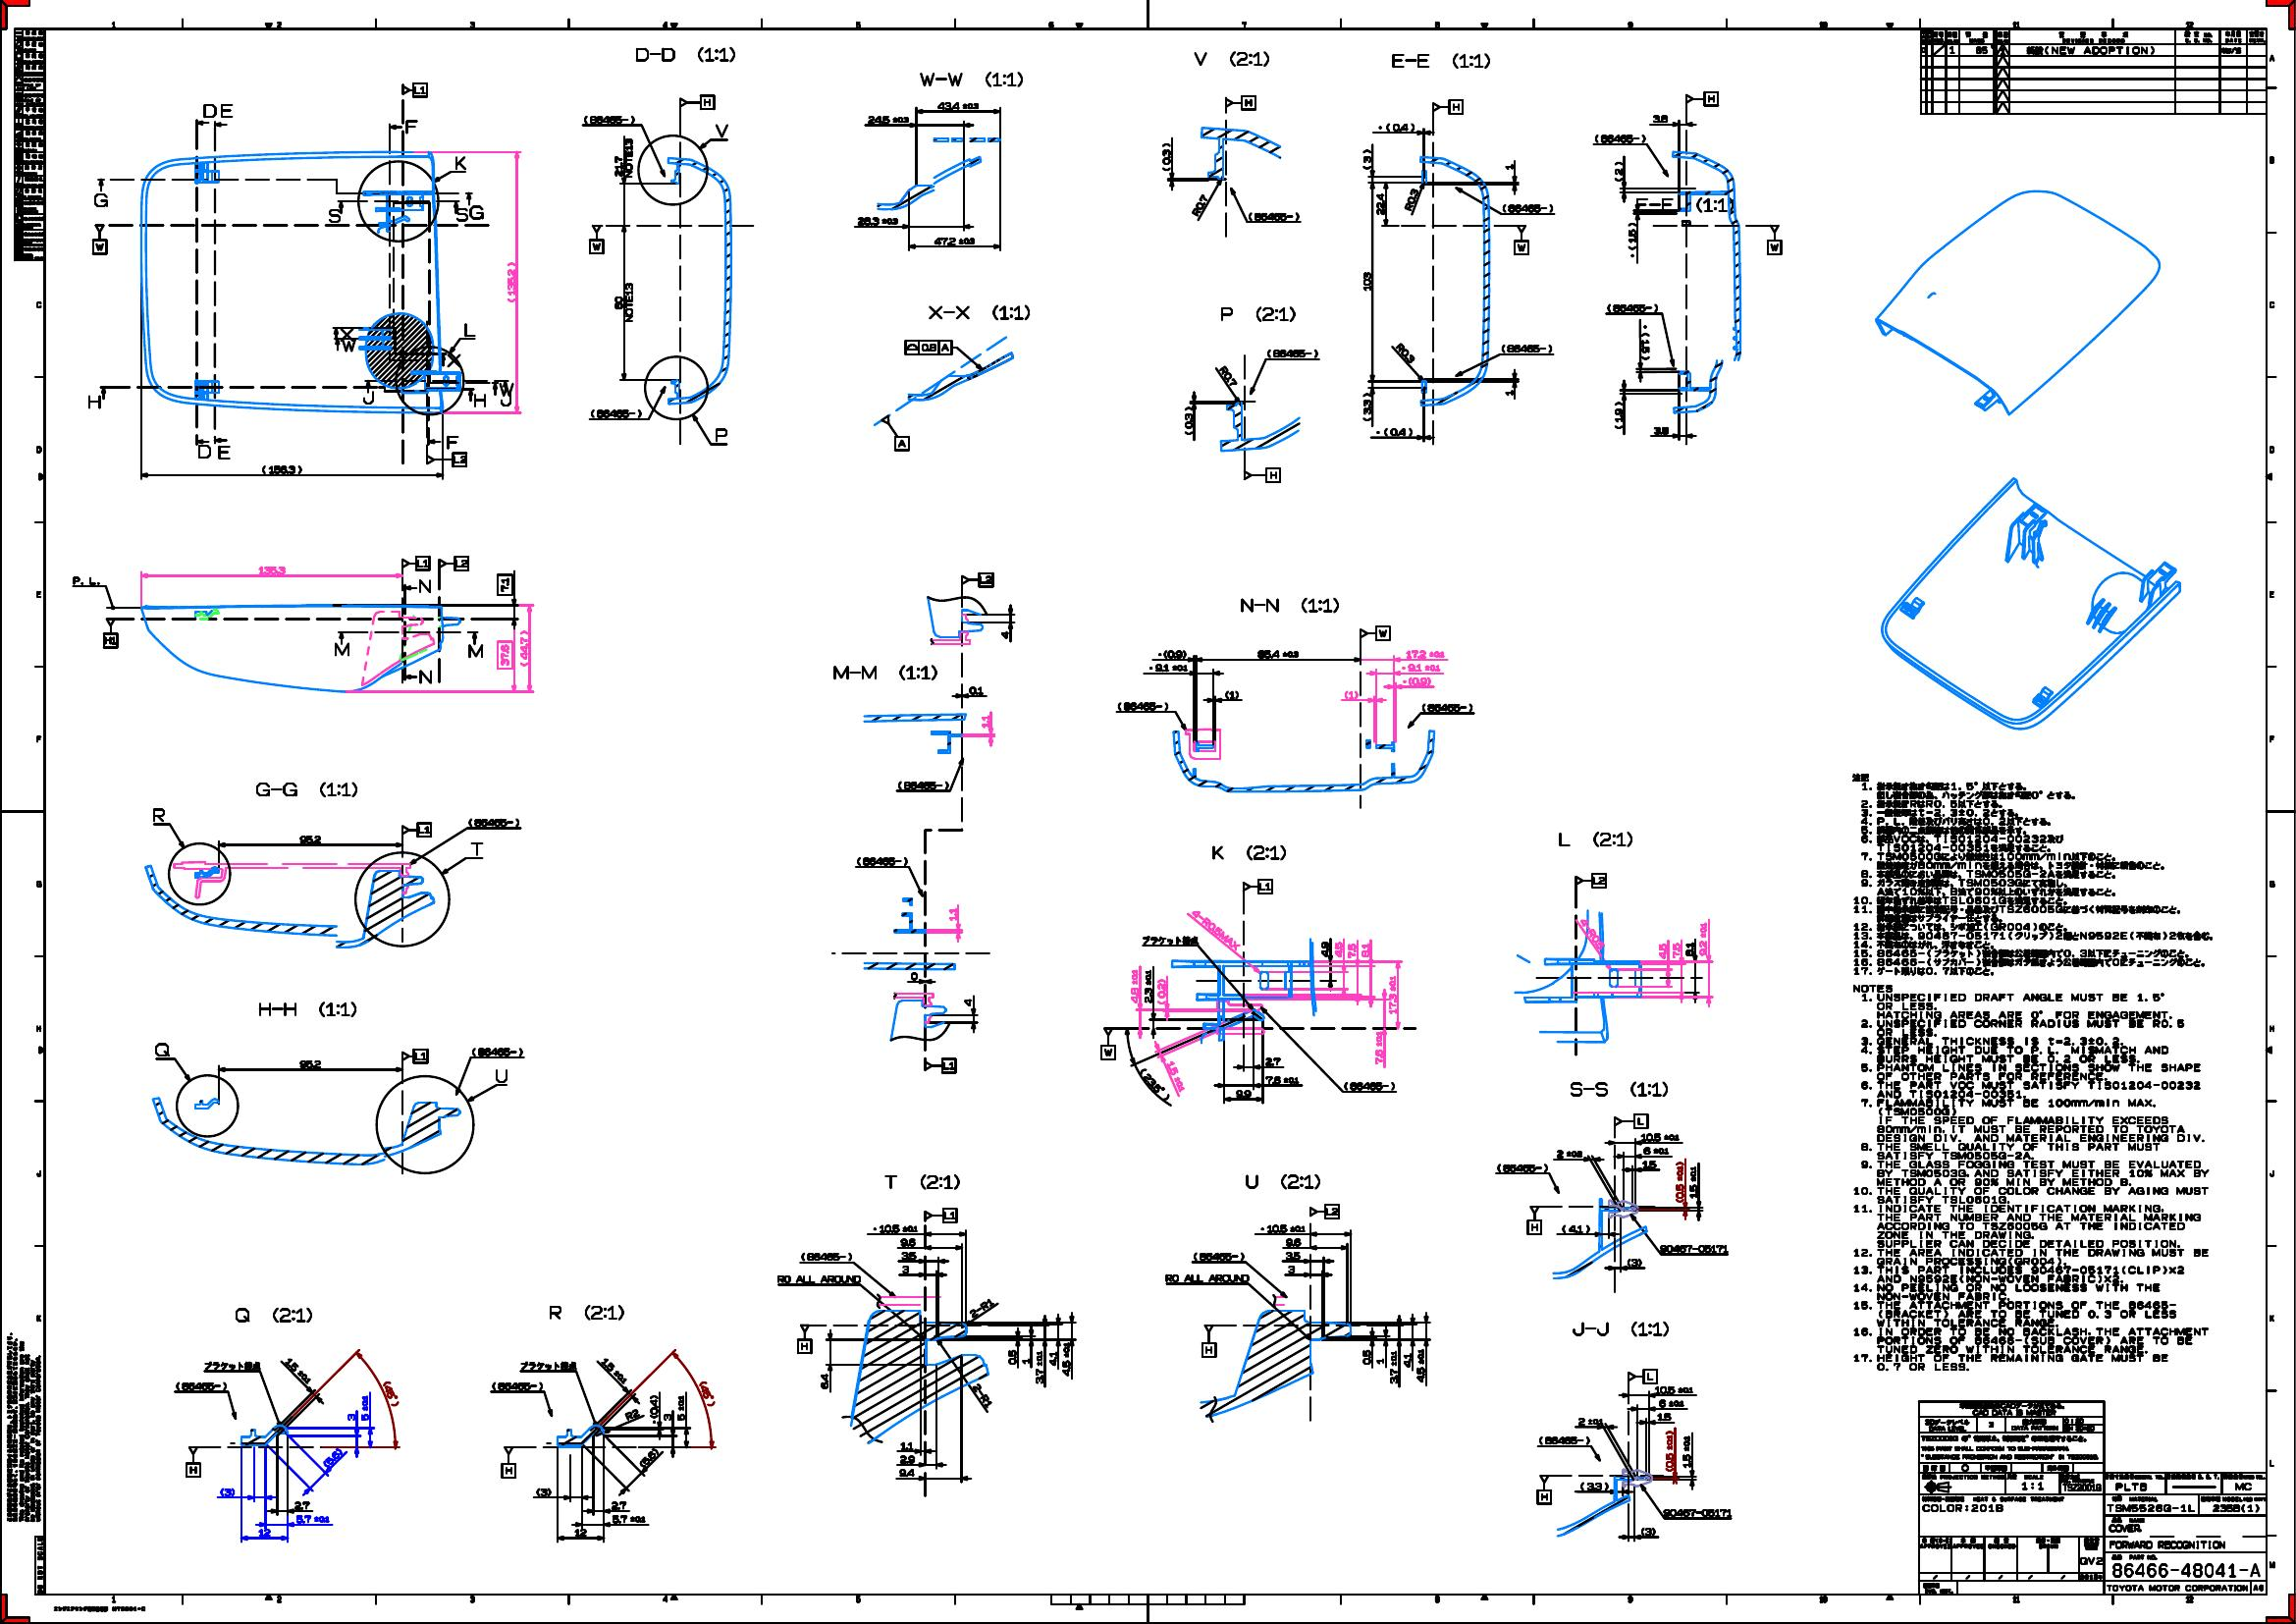anntotation_text: (1846, 765, 2213, 1380), (4, 1329, 42, 1524), (1570, 1316, 1669, 1338), (831, 663, 938, 682), (1238, 596, 1340, 615), (917, 70, 1022, 88), (253, 780, 358, 798), (926, 304, 1029, 322), (632, 46, 736, 63), (1390, 53, 1491, 70), (1569, 1081, 1669, 1098), (880, 1171, 963, 1192), (234, 1304, 313, 1325), (256, 1002, 358, 1018), (1635, 197, 1734, 213), (1242, 1172, 1321, 1192), (1191, 49, 1270, 69), (1219, 304, 1296, 323), (1210, 844, 1288, 861), (546, 1304, 624, 1322), (1556, 831, 1632, 847), (51, 1605, 146, 1615), (903, 339, 954, 355), (1593, 132, 1648, 144), (35, 1536, 46, 1596), (518, 1359, 578, 1369), (1662, 1508, 1732, 1517), (1658, 1244, 1727, 1253), (588, 406, 645, 417), (1182, 1274, 1249, 1283), (1606, 302, 1660, 313), (1342, 1079, 1397, 1090), (1116, 700, 1170, 710), (1265, 348, 1319, 359), (466, 816, 520, 826), (796, 1274, 861, 1283), (1497, 1162, 1549, 1172), (1193, 1250, 1245, 1260), (896, 779, 949, 789), (471, 1046, 523, 1056), (1421, 701, 1472, 712), (202, 1360, 262, 1369), (1140, 935, 1198, 944), (1500, 204, 1555, 213), (799, 1251, 854, 1260), (174, 1380, 228, 1388), (583, 114, 638, 123), (1500, 344, 1553, 353), (1247, 211, 1300, 220), (856, 856, 908, 865), (490, 1380, 543, 1388), (1539, 1436, 1590, 1445), (495, 573, 513, 596), (624, 137, 632, 179), (624, 281, 632, 323), (1590, 872, 1607, 889), (1200, 1341, 1217, 1359), (1374, 624, 1391, 642), (86, 394, 104, 411), (466, 642, 483, 659), (711, 424, 729, 441), (149, 807, 169, 823), (1765, 239, 1783, 255), (1513, 239, 1530, 255), (1632, 1113, 1650, 1128), (1525, 1220, 1542, 1236), (1641, 1367, 1657, 1385), (1256, 879, 1274, 895), (1265, 466, 1281, 483), (892, 436, 910, 452), (940, 1058, 957, 1074), (796, 1338, 813, 1353), (499, 1462, 516, 1478), (460, 322, 478, 337), (494, 1067, 509, 1084), (416, 668, 434, 684), (102, 633, 119, 649), (70, 575, 102, 584), (588, 237, 604, 255), (411, 81, 427, 98), (451, 450, 467, 468), (444, 432, 460, 450), (1702, 91, 1718, 107), (1448, 98, 1463, 114), (1535, 1489, 1551, 1504), (1325, 1202, 1340, 1218), (1100, 1044, 1116, 1060), (1240, 95, 1256, 111), (942, 1207, 957, 1223), (186, 1462, 202, 1478), (200, 102, 216, 118), (220, 102, 235, 118), (93, 192, 109, 207), (91, 239, 107, 255), (155, 1040, 170, 1056), (413, 1048, 429, 1063), (416, 823, 432, 838), (453, 555, 469, 571), (415, 555, 430, 571), (416, 576, 432, 592), (334, 642, 350, 657), (699, 93, 715, 109), (713, 121, 729, 137), (451, 155, 467, 170), (404, 120, 420, 135), (455, 207, 471, 223), (339, 339, 355, 355), (473, 392, 488, 408), (499, 381, 515, 397), (499, 392, 515, 408), (362, 388, 378, 404), (469, 204, 483, 221), (214, 445, 232, 459), (978, 571, 993, 587), (197, 445, 213, 459), (469, 840, 483, 856), (327, 207, 341, 223), (339, 329, 355, 341)
dimension_text: (1184, 924, 1247, 933), (1260, 1223, 1305, 1234), (866, 112, 908, 123), (856, 214, 898, 225), (1404, 649, 1444, 659), (1135, 1077, 1173, 1088), (873, 1223, 919, 1232), (497, 640, 511, 668), (1375, 425, 1412, 436), (1256, 649, 1300, 657), (506, 260, 515, 304), (938, 102, 980, 111), (933, 236, 975, 244), (611, 1513, 646, 1524), (1388, 975, 1397, 1016), (1400, 663, 1440, 671), (262, 464, 302, 473), (1641, 1132, 1679, 1141), (1149, 663, 1188, 671), (1655, 1385, 1692, 1394), (1641, 323, 1650, 360), (1416, 1346, 1425, 1383), (518, 629, 527, 666), (1560, 1223, 1590, 1234), (1159, 141, 1170, 170), (256, 564, 286, 575), (1699, 923, 1708, 958), (1627, 221, 1635, 257), (1379, 123, 1414, 132), (1265, 1076, 1300, 1084), (295, 1513, 330, 1522), (1579, 1480, 1607, 1490), (1665, 1429, 1672, 1471), (1555, 1148, 1583, 1158), (1404, 675, 1432, 685), (1683, 1434, 1692, 1468), (1172, 1060, 1180, 1093), (597, 1366, 631, 1374), (281, 1366, 314, 1374), (970, 1390, 996, 1401), (648, 1392, 657, 1424), (1361, 392, 1370, 422), (1182, 406, 1191, 436), (297, 833, 321, 844), (1390, 1350, 1397, 1385), (1375, 1030, 1383, 1065), (1144, 968, 1151, 1004), (1158, 649, 1186, 657), (1036, 1350, 1043, 1385), (386, 1380, 395, 1408), (1131, 968, 1138, 1002), (1063, 1343, 1070, 1376), (1658, 1399, 1685, 1408), (1643, 1146, 1669, 1155), (1156, 977, 1165, 1004), (968, 1302, 994, 1311), (1578, 1417, 1602, 1425), (1375, 192, 1384, 216), (1216, 371, 1240, 380), (1188, 200, 1212, 209), (1614, 399, 1621, 429), (1400, 341, 1409, 364), (1407, 188, 1416, 211), (1361, 148, 1370, 170), (638, 1454, 661, 1462), (321, 1454, 344, 1462), (613, 155, 622, 178), (362, 1394, 369, 1422), (1651, 112, 1669, 123), (898, 1454, 915, 1464), (676, 1394, 683, 1420), (610, 1499, 627, 1510), (1614, 162, 1623, 181), (1361, 271, 1370, 290), (1284, 1236, 1300, 1246), (1265, 1056, 1281, 1067), (299, 1060, 321, 1067), (1651, 425, 1669, 434), (1319, 940, 1328, 958), (899, 1250, 917, 1258), (293, 1501, 311, 1510), (970, 685, 984, 696), (1641, 1527, 1657, 1536), (1404, 1352, 1412, 1367), (1361, 1350, 1370, 1366), (1347, 942, 1356, 958), (1333, 942, 1342, 958), (1235, 1090, 1251, 1098), (1007, 1350, 1015, 1366), (899, 1237, 915, 1246), (776, 1274, 792, 1283), (898, 1468, 913, 1476), (820, 1373, 829, 1388), (624, 1410, 639, 1418), (220, 1487, 235, 1496), (613, 295, 622, 311), (1657, 1411, 1671, 1420), (1685, 942, 1693, 956), (1223, 691, 1240, 698), (980, 715, 989, 729), (949, 907, 957, 921), (899, 1441, 913, 1450), (574, 1527, 588, 1536), (536, 1487, 550, 1496), (258, 1527, 272, 1536), (1627, 1258, 1643, 1265), (1641, 1160, 1657, 1167), (1672, 942, 1679, 958), (1658, 942, 1665, 958), (1284, 1251, 1300, 1258), (1361, 942, 1368, 958), (1049, 1350, 1056, 1366), (963, 995, 971, 1007), (1344, 691, 1358, 698), (1375, 1355, 1384, 1366), (1000, 629, 1008, 640), (662, 1411, 671, 1422), (908, 972, 917, 981), (1504, 163, 1513, 170), (1504, 388, 1513, 395), (1288, 1264, 1295, 1272), (901, 1265, 908, 1274), (346, 1413, 355, 1420), (1022, 1357, 1029, 1364)
object: (139, 149, 462, 415), (1880, 478, 2180, 731), (863, 596, 1012, 1040), (1874, 190, 2161, 417), (141, 605, 460, 692), (146, 861, 437, 947), (841, 1295, 989, 1445), (153, 1098, 462, 1165), (1198, 1294, 1351, 1417), (1418, 155, 1490, 406), (1672, 151, 1741, 413), (1513, 909, 1641, 1042), (1173, 729, 1435, 793), (666, 156, 731, 406), (1172, 937, 1318, 1042), (878, 137, 1000, 211), (1551, 1199, 1648, 1280), (1555, 1468, 1653, 1536), (906, 352, 1014, 401), (1200, 127, 1281, 181), (1221, 401, 1300, 448), (557, 1425, 604, 1448), (239, 1425, 288, 1445)
title_block: (1917, 1401, 2266, 1594), (1920, 26, 2266, 114), (12, 26, 44, 260)
